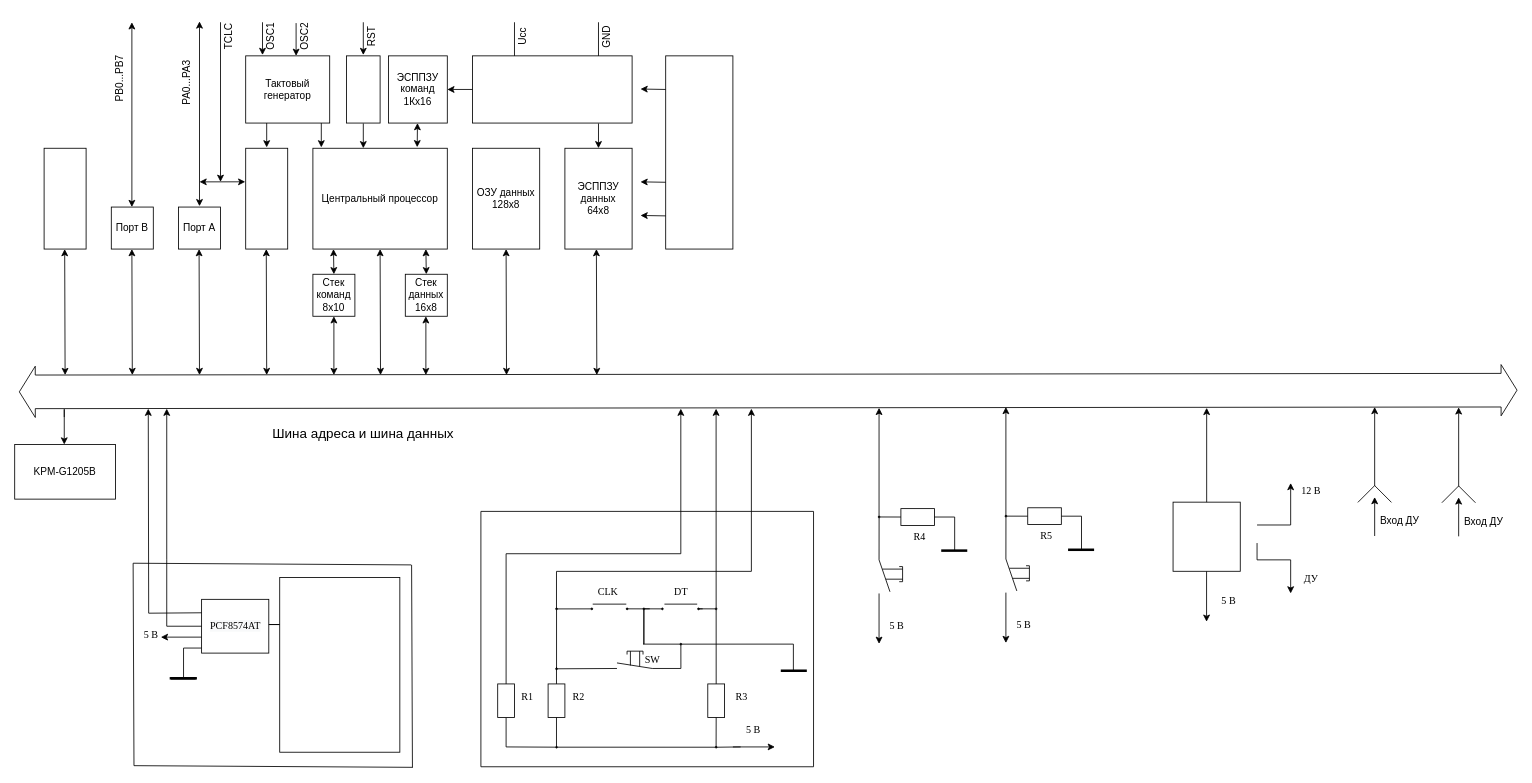
This 1532x783 diagram has some shape labels left out. Here are the shapes that lost their labels. From the top down, the centre of each, then its label:
(x=363, y=89): Пуск
(x=552, y=89): Генератор напряжения программирования
(x=699, y=152): Схема поддержки измерений и программирования
(x=64, y=198): Сторож таймер
(x=266, y=198): 16 битный тамер
(x=339, y=664): LCD 1602A
